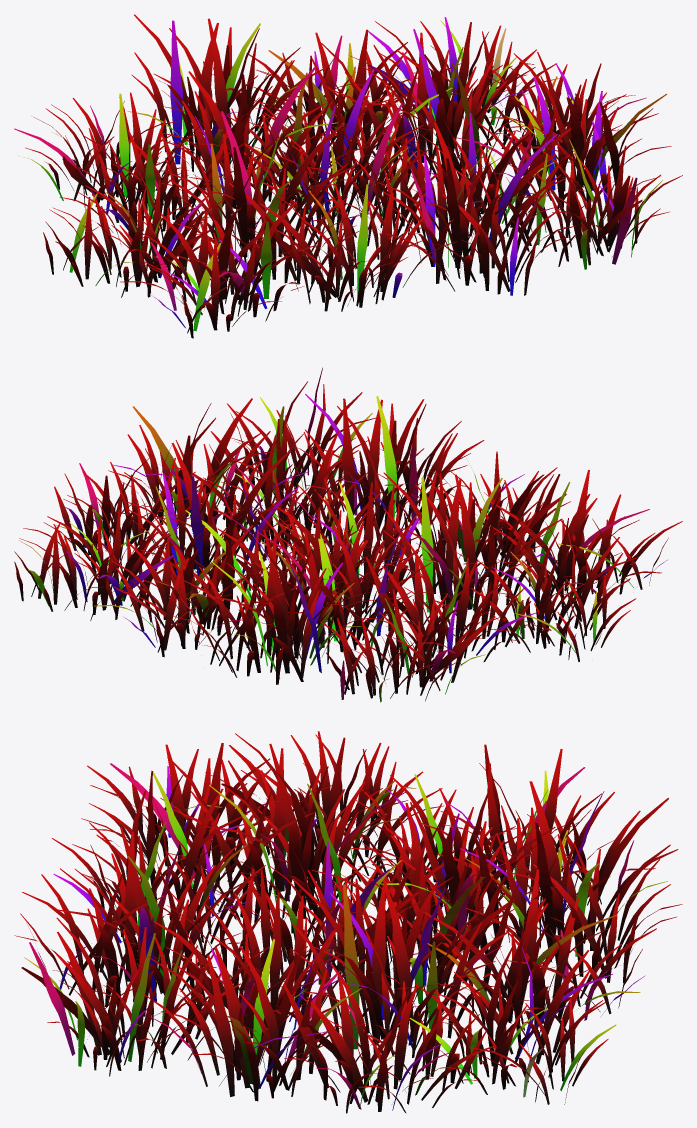
Rendered from large_Grass_HP_var3.fbx.
3 views of the same model, one above another, from view 1: azimuth 30°, elevation 25°; view 2: azimuth 150°, elevation 25°; view 3: azimuth 270°, elevation 25° (orthographic). The views are drawn at different scales.
Parts seen in each view (by area): view 1: Large_Grass_var2_LOD0; view 2: Large_Grass_var2_LOD0; view 3: Large_Grass_var2_LOD0.
Part boxes in pixels (left/top/right/bottom): Large_Grass_var2_LOD0: left=14, top=14, right=682, bottom=338; Large_Grass_var2_LOD0: left=14, top=367, right=682, bottom=702; Large_Grass_var2_LOD0: left=14, top=731, right=682, bottom=1113.
Size of what is drawn, in the model's own units: 4.83 by 0.9823 by 4.04.
